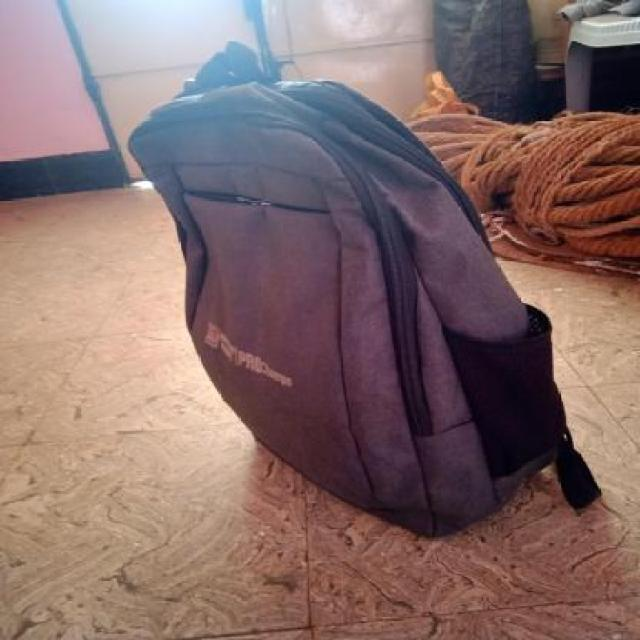backpack: (118, 45, 580, 543)
